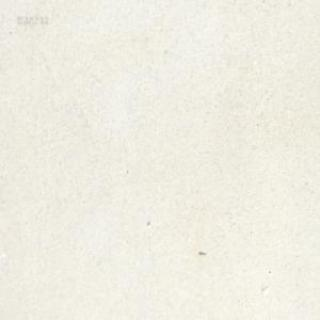Nailtrack_idkeyframe: (198, 249, 205, 254)
